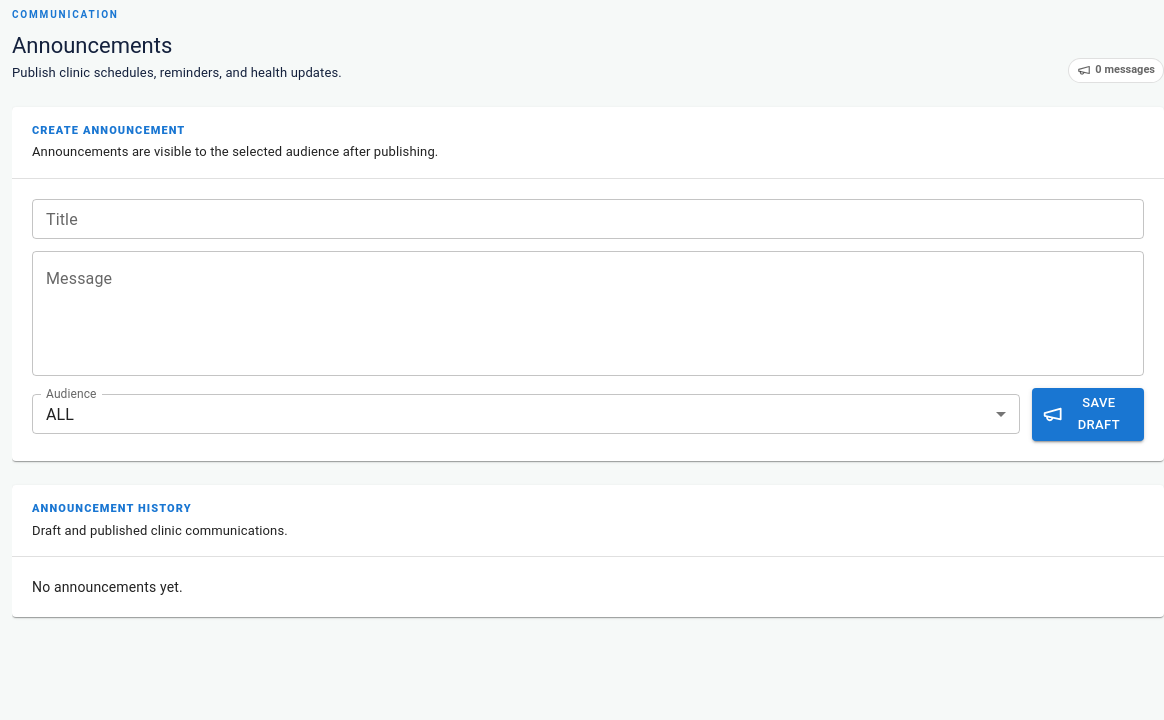
Test: AnnouncementsPage staff workflow › exposes announcement API failures as an accessible alert
Check: the text "No announcements yet." is shown, box 32,579 -> 183,595
In the field labelled "Title": (588, 219) 32,199 -> 1144,239, type "Clinic closed"
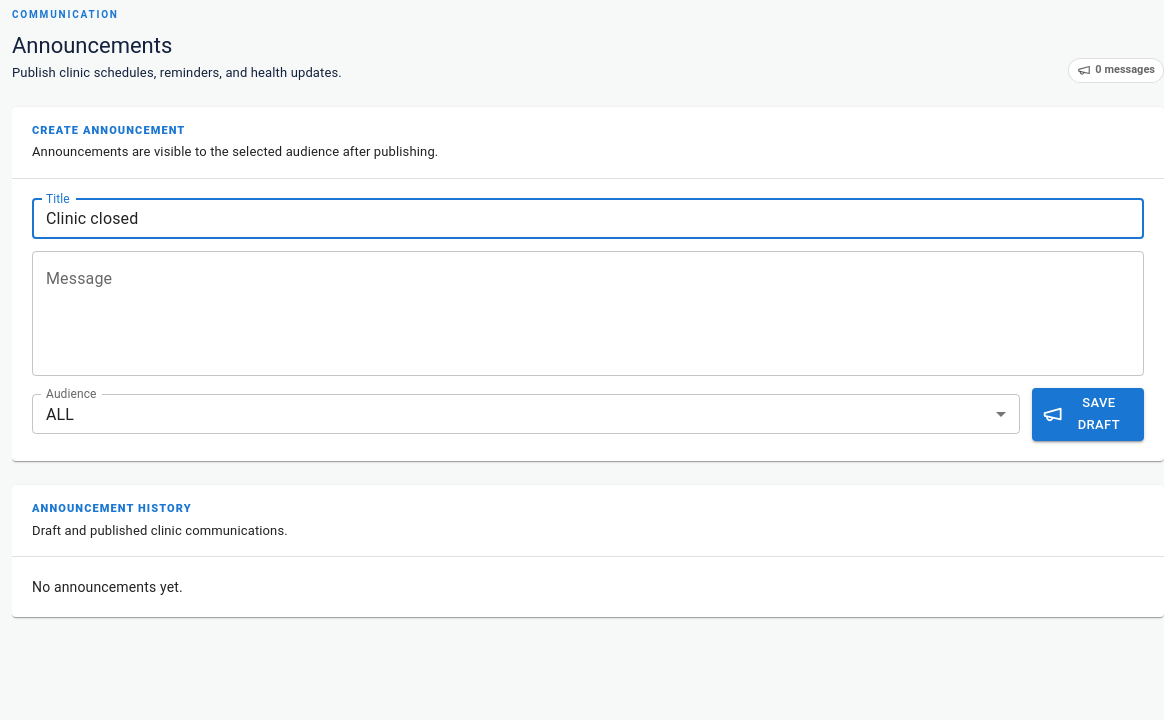
In the text box labelled "Message": (588, 313) 46,267 -> 1130,359, type "Closed this afternoon."
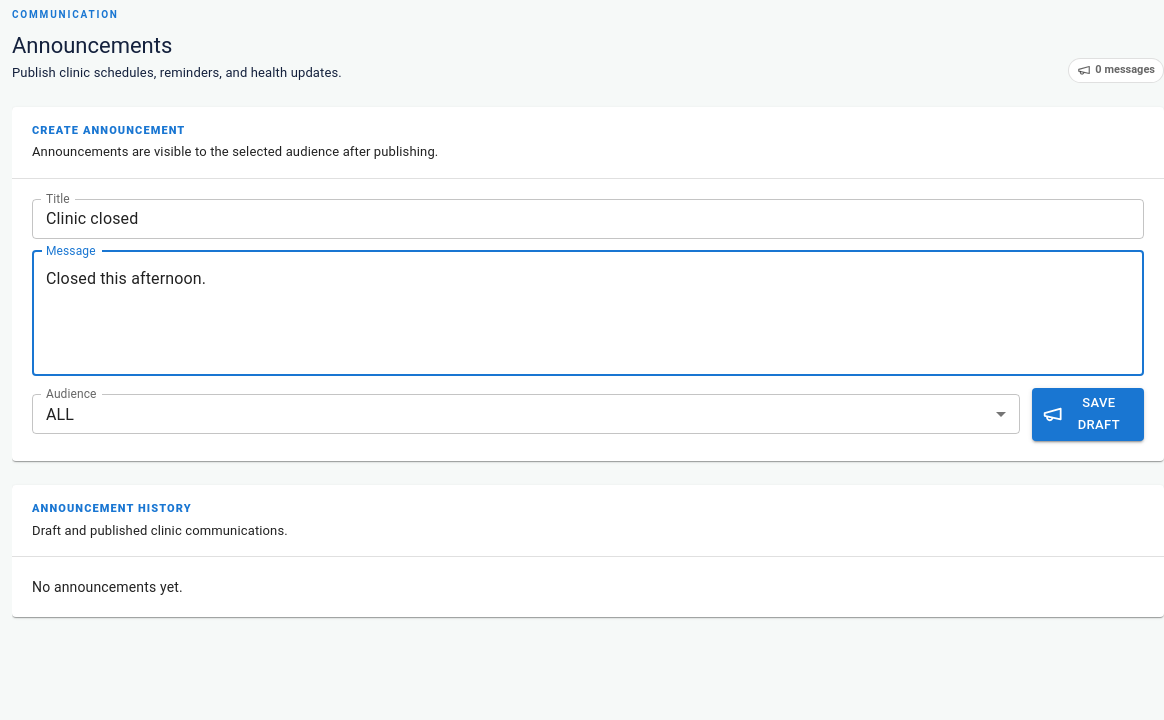
Click the button "Save draft": (1088, 414) 1032,388 -> 1144,441
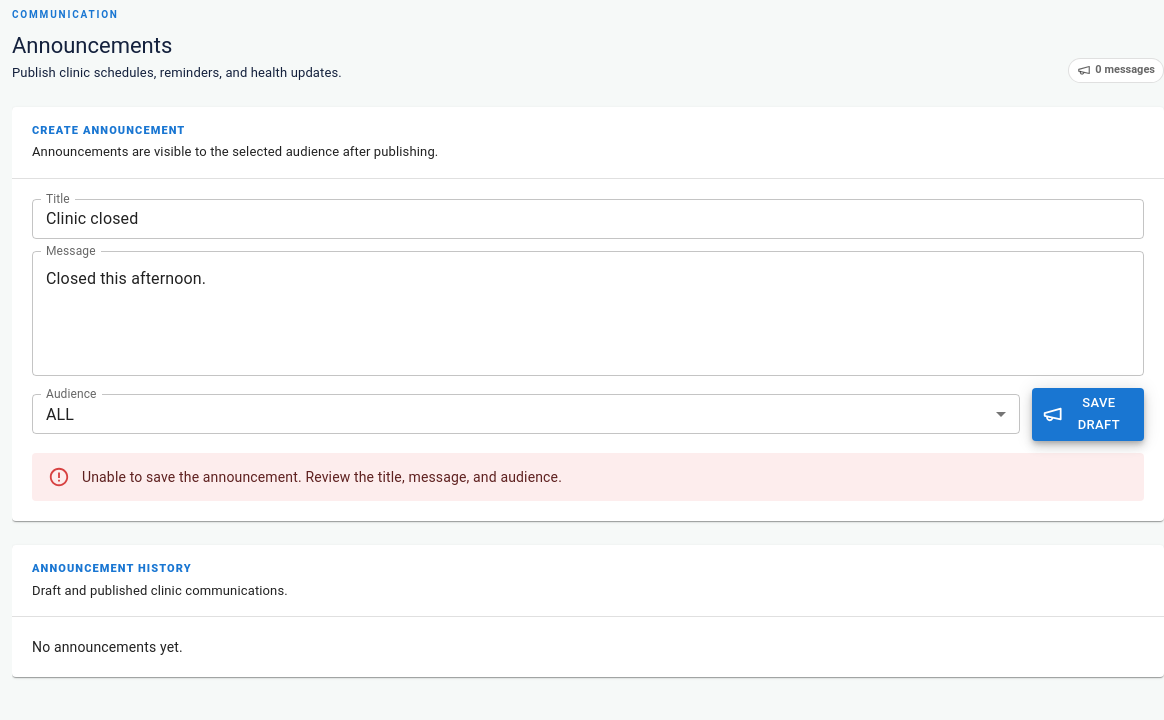
Check: the message shows "Unable to save the announcement", box 82,469 -> 562,485
